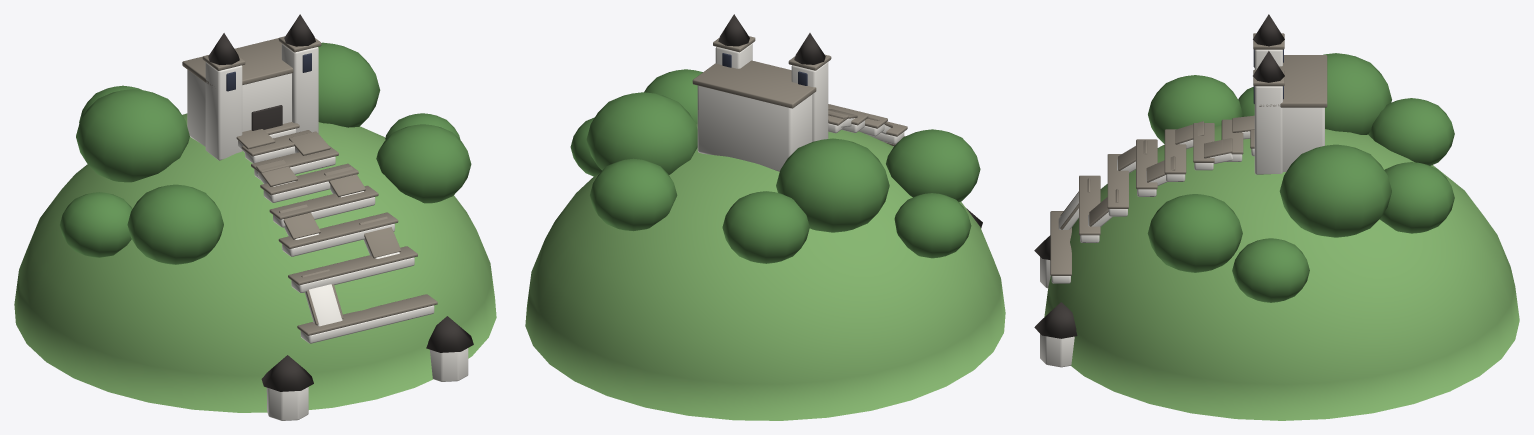
Rendered from bom-jesus.glb.
3 renders of one model, left to right at view 1: azimuth 30°, elevation 25°; view 2: azimuth 150°, elevation 25°; view 3: azimuth 270°, elevation 25°, orthographic.
Parts seen in each view (by area): view 1: bom-jesus; view 2: bom-jesus; view 3: bom-jesus.
Boxes of the visible parts, <box> form: bom-jesus: <box>14,14,496,420</box>; bom-jesus: <box>525,14,1005,420</box>; bom-jesus: <box>1034,14,1519,420</box>.
Size of the model in its own units: 22 by 14.7 by 22.45.
